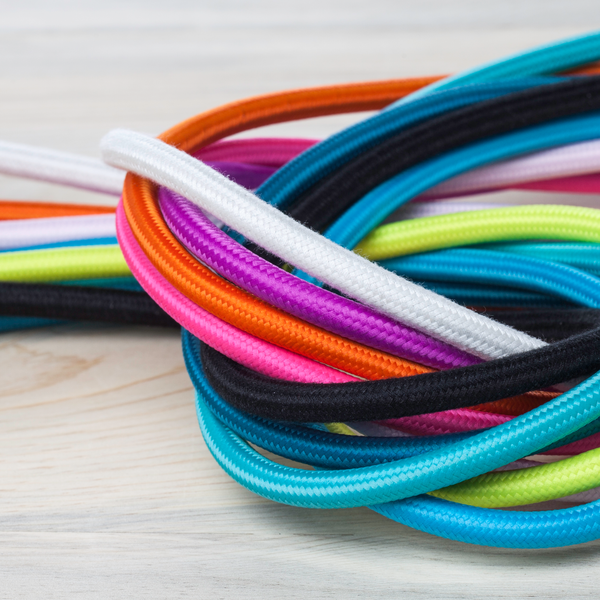Nonrec_Tangler: (7, 27, 597, 559)
